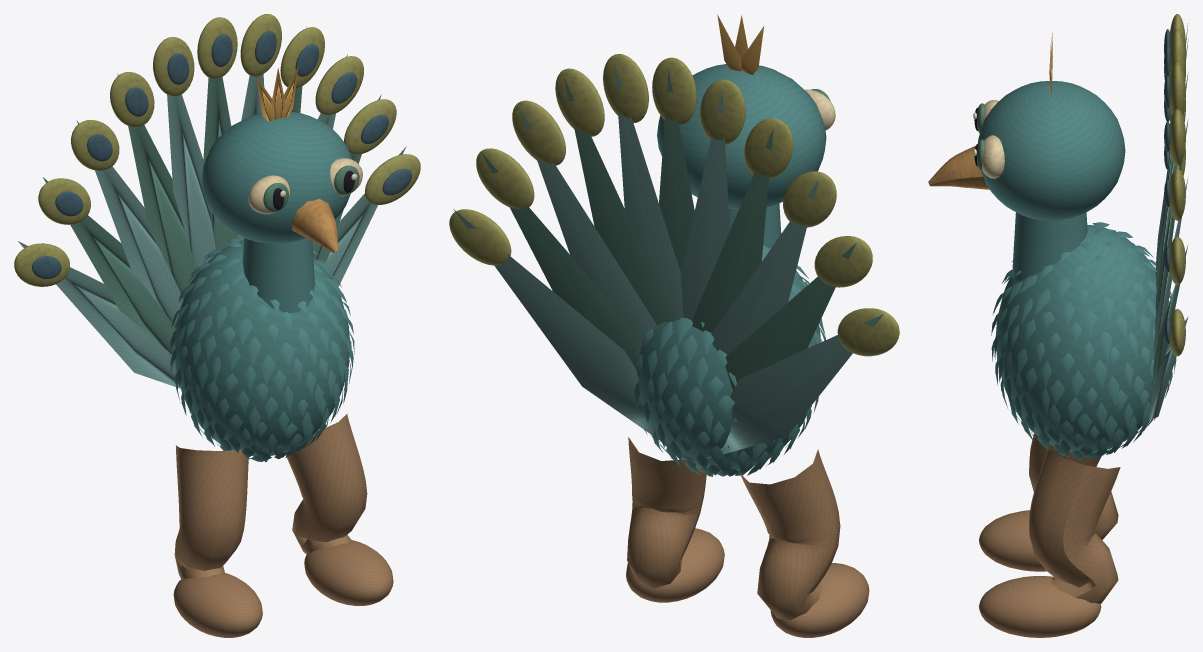
The model's file is pavo.glb.
The picture shows the model from 3 angles, left to right: view 1: azimuth 30°, elevation 25°; view 2: azimuth 150°, elevation 25°; view 3: azimuth 270°, elevation 25°; orthographic projection. The views are drawn at different scales.
Parts seen in each view (by area): view 1: Blade (×8), Herald torso, Feather eye (×11), Bent limb (×2), Contour plumage, Cranium, Foot (×2), Visible neck, Eye center (×5), Tapered beak, Sclera; view 2: Blade (×11), Feather eye (×11), Bent limb (×2), Cranium, Contour plumage, Herald torso, Foot (×2), Visible neck; view 3: Herald torso, Cranium, Contour plumage, Bent limb (×2), Foot (×2), Feather eye (×6), Visible neck, Blade (×5), Tapered beak, Sclera.
Part boxes in pixels (left/top/right/bottom): Blade (×8): left=18, top=19, right=406, bottom=388; Herald torso: left=173, top=240, right=349, bottom=456; Feather eye (×11): left=14, top=14, right=420, bottom=286; Bent limb (×2): left=174, top=414, right=367, bottom=578; Contour plumage: left=169, top=238, right=354, bottom=462; Cranium: left=201, top=111, right=351, bottom=243; Foot (×2): left=173, top=540, right=393, bottom=637; Visible neck: left=242, top=238, right=314, bottom=313; Eye center (×5): left=167, top=31, right=412, bottom=195; Tapered beak: left=291, top=198, right=338, bottom=253; Sclera: left=248, top=175, right=289, bottom=214; Blade (×11): left=453, top=64, right=883, bottom=462; Feather eye (×11): left=449, top=54, right=899, bottom=356; Bent limb (×2): left=627, top=437, right=840, bottom=620; Cranium: left=657, top=64, right=826, bottom=209; Contour plumage: left=632, top=245, right=826, bottom=476; Herald torso: left=638, top=248, right=820, bottom=471; Foot (×2): left=626, top=528, right=869, bottom=637; Visible neck: left=728, top=203, right=781, bottom=248; Herald torso: left=995, top=225, right=1167, bottom=453; Cranium: left=977, top=81, right=1125, bottom=220; Contour plumage: left=991, top=222, right=1176, bottom=460; Bent limb (×2): left=1029, top=433, right=1120, bottom=603; Foot (×2): left=979, top=510, right=1101, bottom=637; Feather eye (×6): left=1169, top=29, right=1185, bottom=356; Visible neck: left=1012, top=212, right=1087, bottom=281; Blade (×5): left=1149, top=72, right=1188, bottom=420; Tapered beak: left=928, top=145, right=989, bottom=189; Sclera: left=982, top=135, right=1004, bottom=178.
Size of the model in its own units: 1.31 by 1.69 by 0.7008.
Materials: 12 (12 with a texture image).
